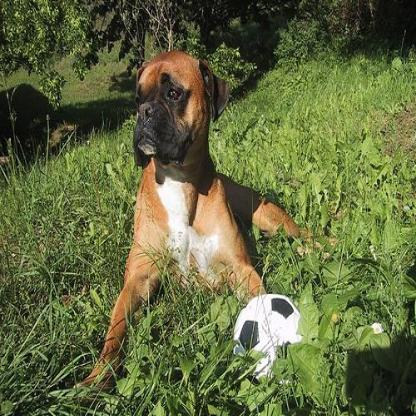boxer: (57, 32, 332, 405)
